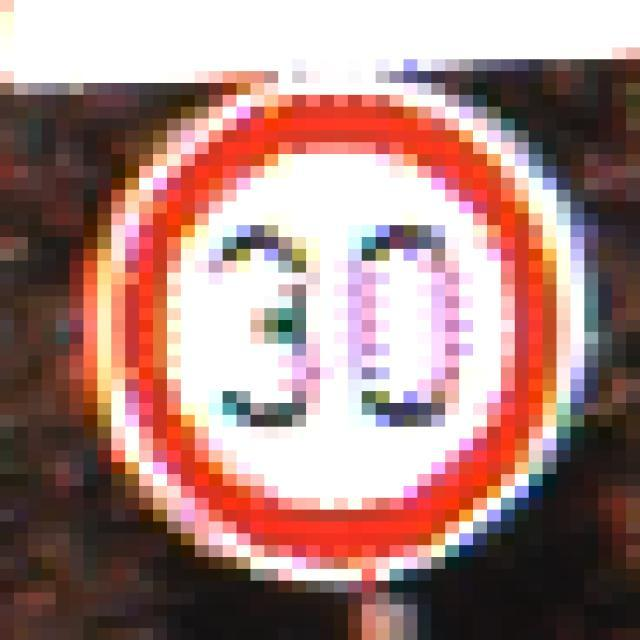Speed Limit -30-: (62, 65, 550, 575)
